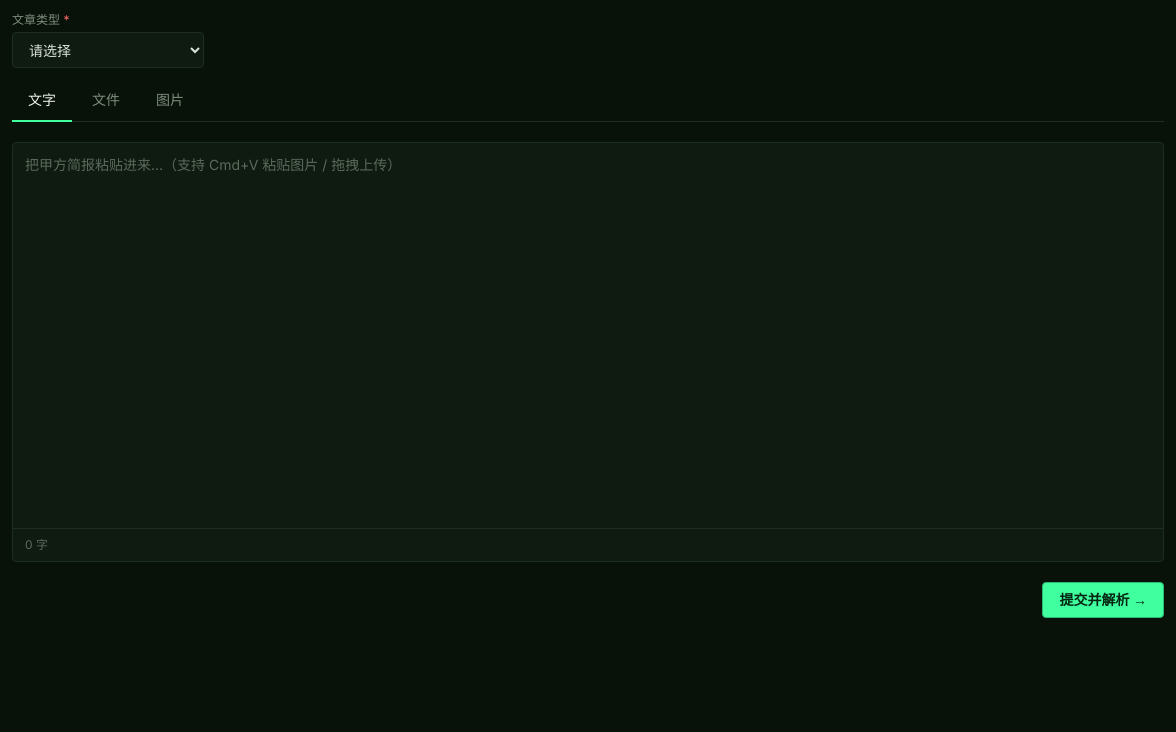
it: BriefIntakeForm rich-media › blocks submit when article_type not selected
Clear the text box with test id "brief-textarea": (588, 336) [13,143,1163,528]
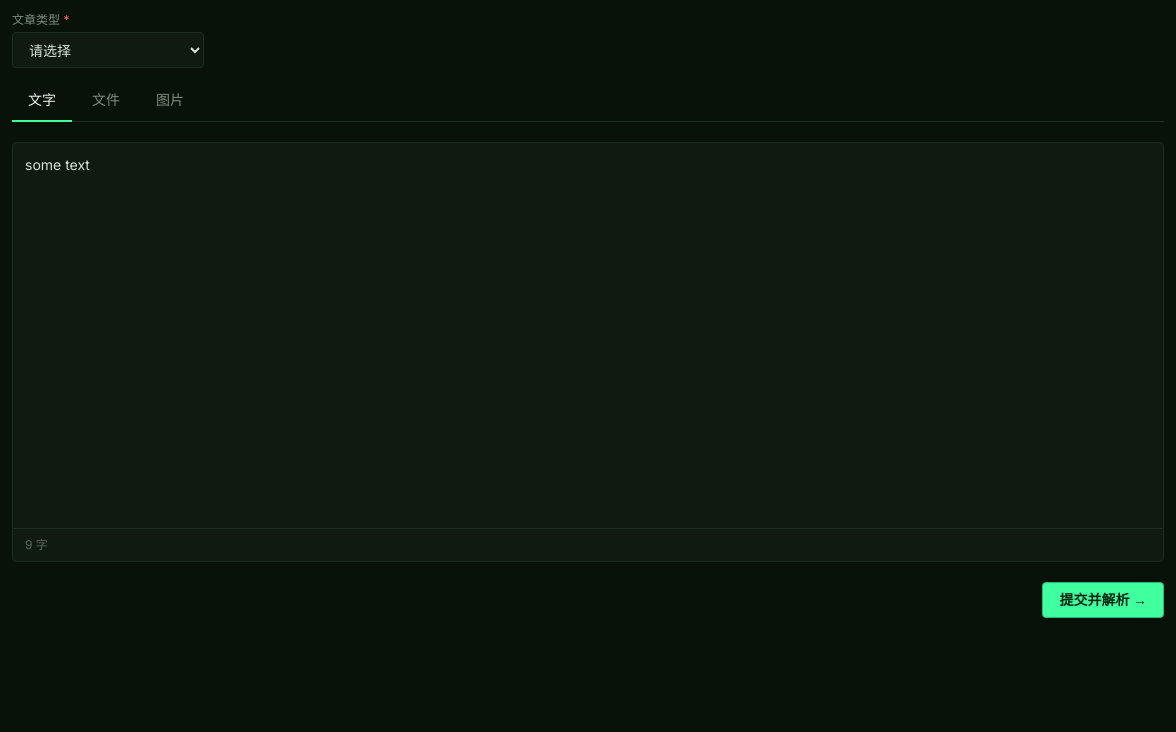
Click the button "提交并解析 →": (1103, 600) [1042,582,1164,618]
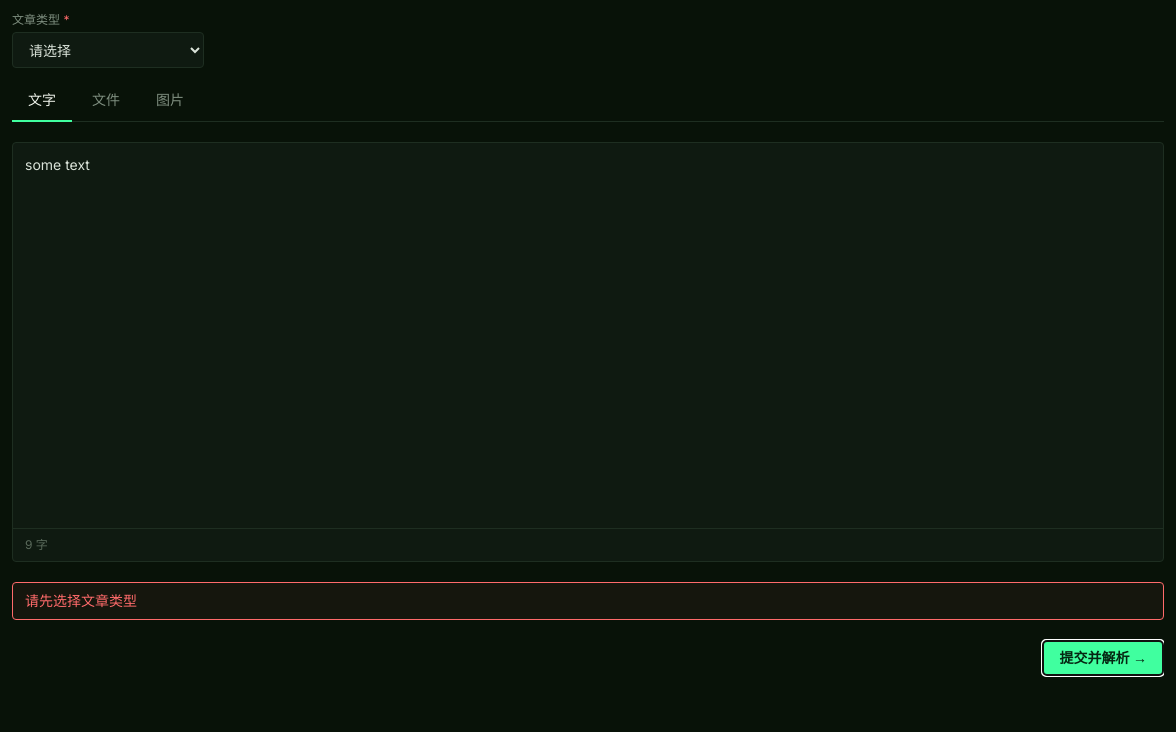
Expected: the text "请先选择文章类型" is shown, [12,582,1164,620]
